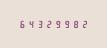eight: (71, 20, 79, 28)
four: (26, 20, 34, 28)
nine: (53, 20, 61, 28), (62, 20, 70, 28)
six: (17, 20, 25, 28)
three: (35, 20, 43, 28)
two: (44, 20, 52, 28), (80, 20, 88, 28)
